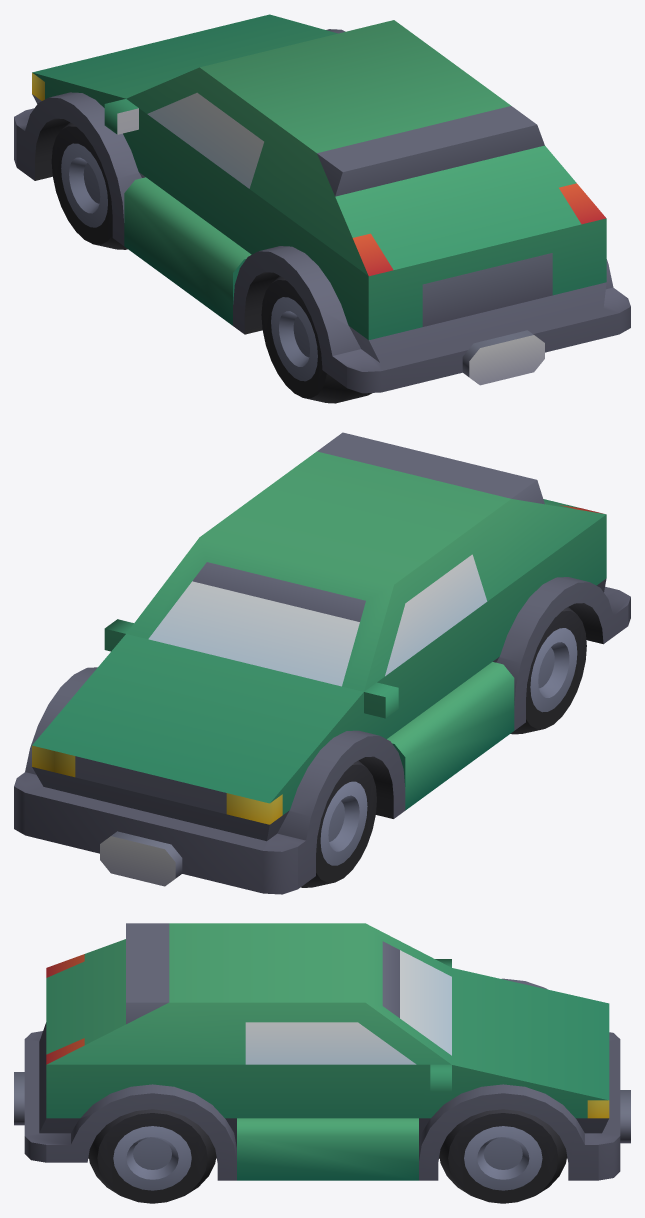
File: kenney-hatchback.glb
The picture shows the model from 3 angles, top to bottom: view 1: azimuth 30°, elevation 25°; view 2: azimuth 150°, elevation 25°; view 3: azimuth 270°, elevation 25°; orthographic projection. The views are drawn at different scales.
Parts seen in each view (by area): view 1: body, wheel-back-left, wheel-front-left; view 2: body, wheel-back-left, wheel-front-left; view 3: body, wheel-front-right, wheel-back-right.
Boxes of the visible parts, x1,y1,x2,y2 form: body: (14, 14, 630, 393); wheel-back-left: (261, 276, 372, 403); wheel-front-left: (51, 122, 127, 249); body: (14, 432, 630, 894); wheel-back-left: (510, 607, 586, 734); wheel-front-left: (301, 760, 376, 887); body: (14, 923, 630, 1180); wheel-front-right: (439, 1109, 566, 1203); wheel-back-right: (88, 1109, 216, 1203).
Size of the model in its own units: 1.78 by 1.42 by 4.05.
